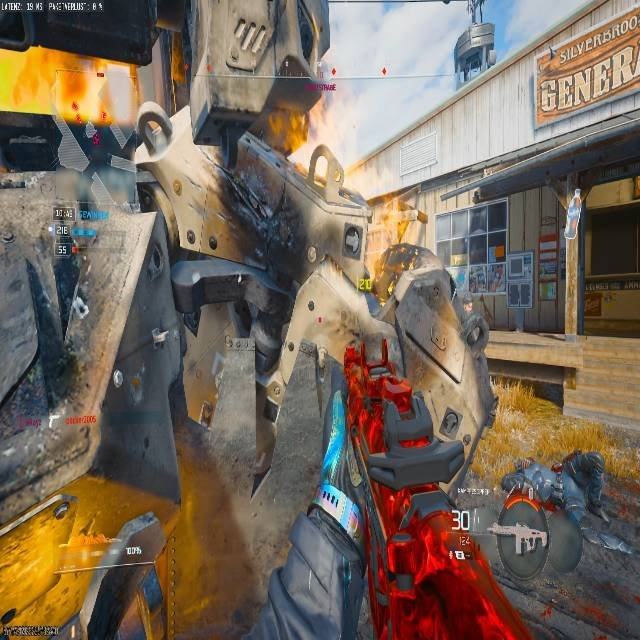head: (171, 0, 331, 153), (260, 73, 322, 153), (379, 240, 425, 281)
player: (80, 2, 352, 510), (450, 9, 496, 85)
